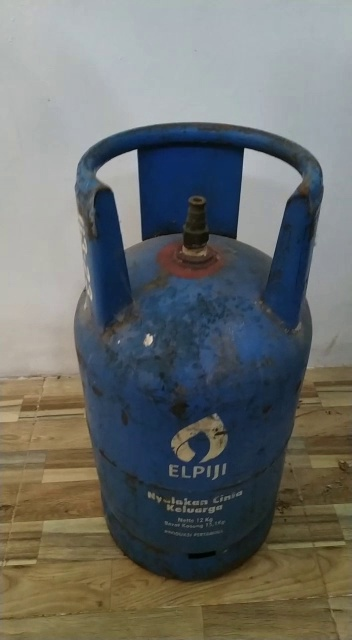blue_gas: (75, 121, 326, 582)
